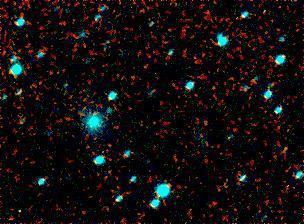star: (96, 130, 126, 160)
